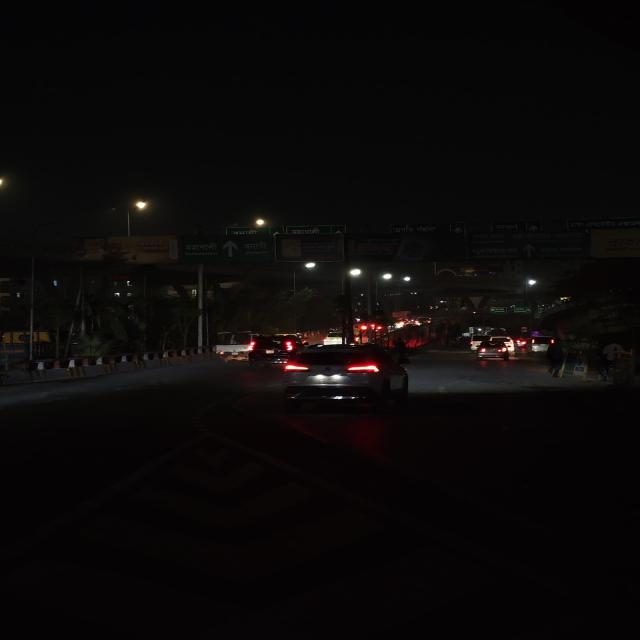car: (276, 343, 416, 412), (244, 333, 297, 361), (474, 337, 516, 362)
pedestrian: (543, 339, 569, 378)
pickup_van: (213, 329, 257, 360)
